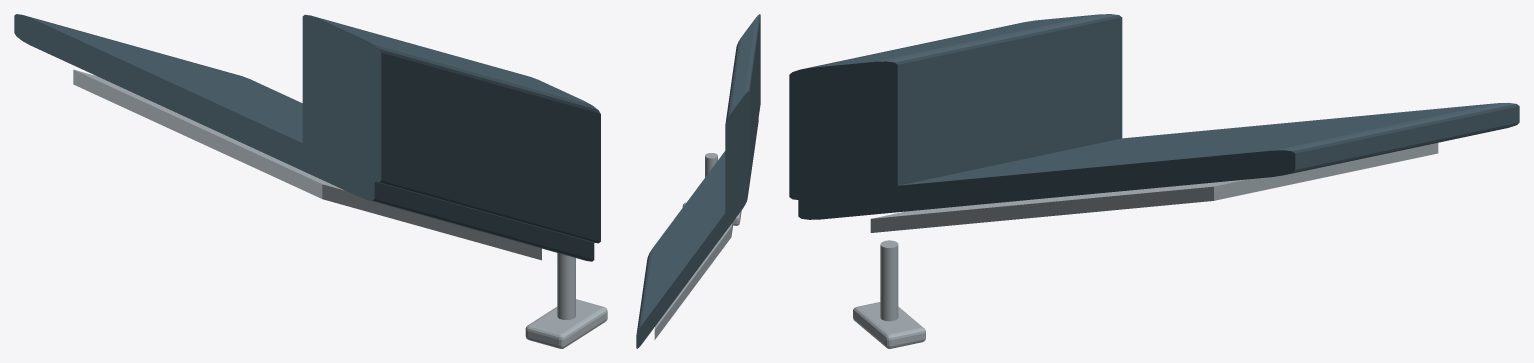
Rendered from cabin_bench_26s.glb.
3 renders of one model, left to right at view 1: azimuth 30°, elevation 25°; view 2: azimuth 150°, elevation 25°; view 3: azimuth 270°, elevation 25°, orthographic. The views are drawn at different scales.
Parts seen in each view (by area): view 1: Bench upright back.013, Bench seat cushion.013, Bench support beam.013, Bench foot.041, Bench pedestal.041; view 2: Bench seat cushion.013, Bench upright back.013, Bench support beam.013, Bench pedestal.041; view 3: Bench upright back.013, Bench seat cushion.013, Bench support beam.013, Bench foot.041, Bench pedestal.041.
Boxes of the visible parts, x1=… form: Bench upright back.013: x1=302, y1=14, x2=600, y2=243; Bench seat cushion.013: x1=14, y1=14, x2=594, y2=261; Bench support beam.013: x1=73, y1=69, x2=541, y2=260; Bench foot.041: x1=525, y1=299, x2=607, y2=348; Bench pedestal.041: x1=557, y1=253, x2=575, y2=319; Bench seat cushion.013: x1=636, y1=119, x2=758, y2=348; Bench upright back.013: x1=725, y1=14, x2=760, y2=212; Bench support beam.013: x1=654, y1=221, x2=733, y2=339; Bench pedestal.041: x1=705, y1=153, x2=717, y2=177; Bench upright back.013: x1=789, y1=14, x2=1122, y2=199; Bench seat cushion.013: x1=798, y1=102, x2=1519, y2=219; Bench support beam.013: x1=870, y1=143, x2=1438, y2=232; Bench foot.041: x1=853, y1=302, x2=925, y2=348; Bench pedestal.041: x1=880, y1=240, x2=898, y2=321.
Bounding box in the file's own units: 1.29 × 1.25 × 3.25.
